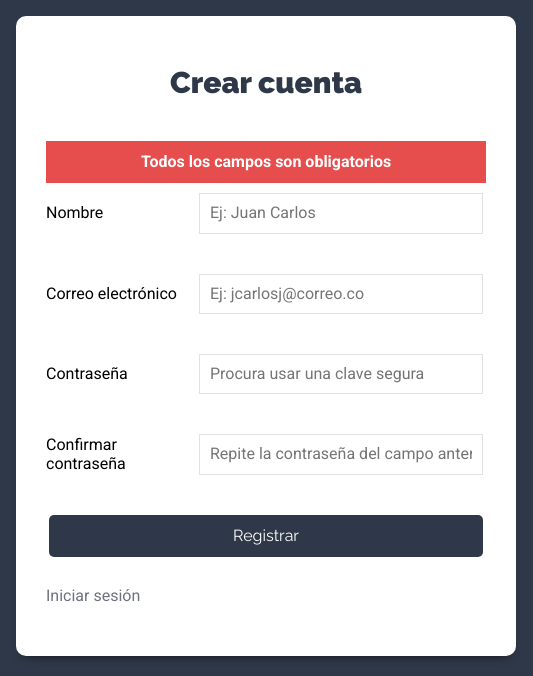
Test: <SignUp /> › Debe mostrar el mensaje de error "La contraseña debe tener mínimo 6 caracteres"
Type "Eva Sofía" into the field with test id "signup-input-name" at coordinates (341, 213), box [199,193,483,233]
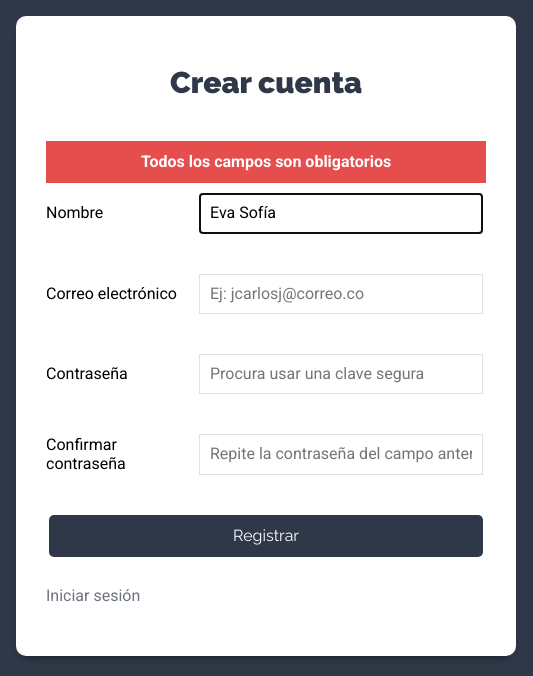
Type "eva.sofia@correo.co" into the field with test id "signup-input-email" at coordinates (341, 294), box [199,274,483,314]
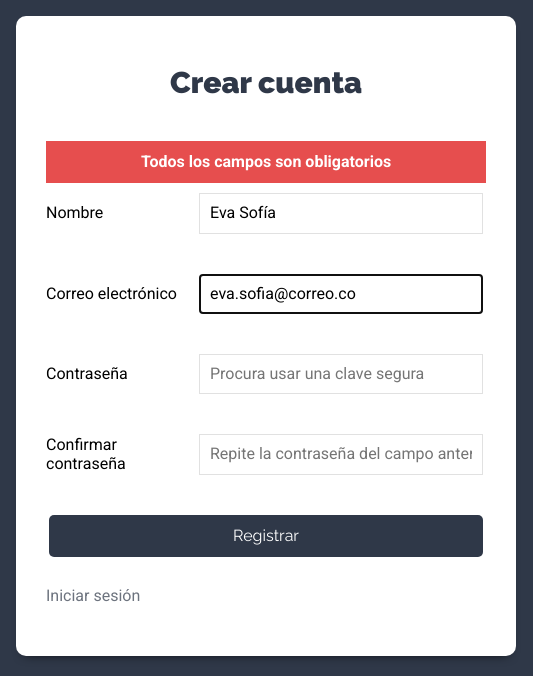
Type "123" into the password field with test id "signup-input-password" at coordinates (341, 374), box [199,354,483,394]
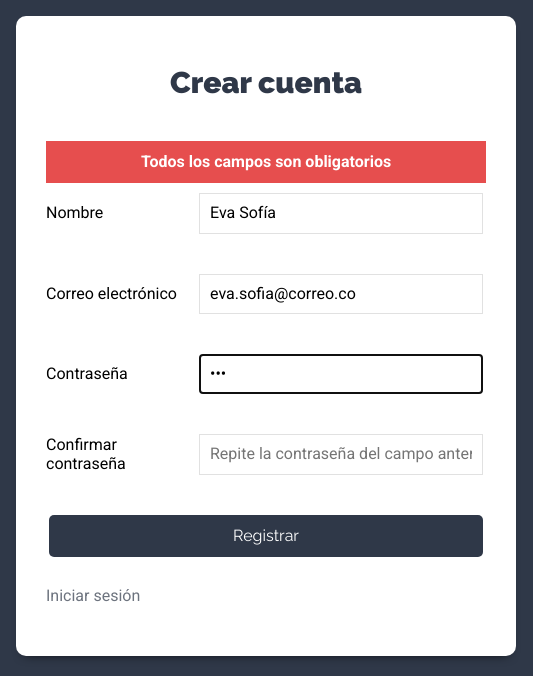
Type "123" into the password field with test id "signup-input-confirm-password" at coordinates (341, 454), box [199,434,483,474]
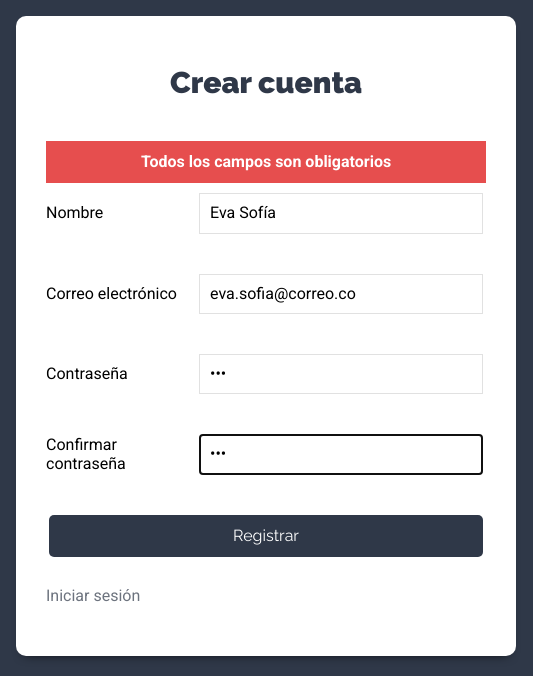
Click the button with test id "signup-button-submit" at coordinates (266, 536), box [49,515,483,557]
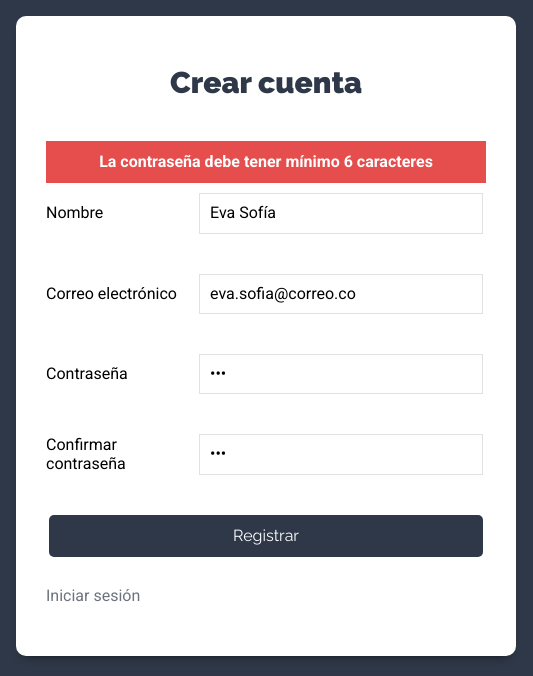
Now the text with test id "alert-error" reads "La contraseña debe tener mínimo 6 caracteres", box [46,141,486,183]
